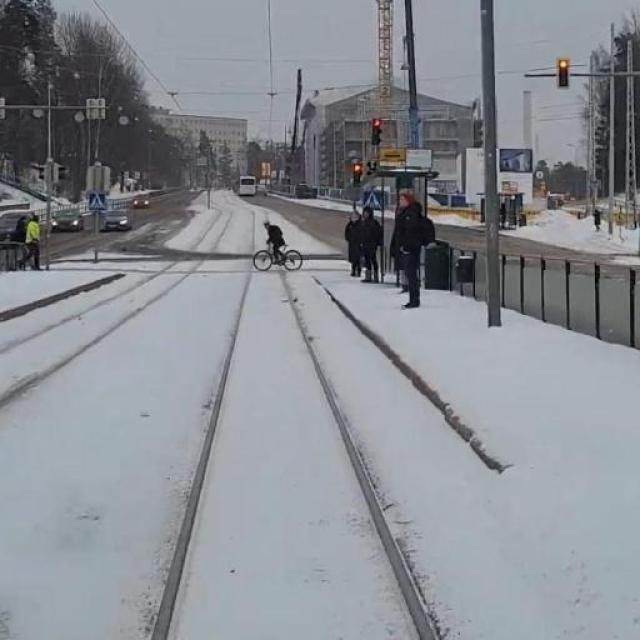people: (388, 189, 429, 303), (359, 203, 385, 279), (257, 216, 286, 269), (347, 211, 363, 265)
